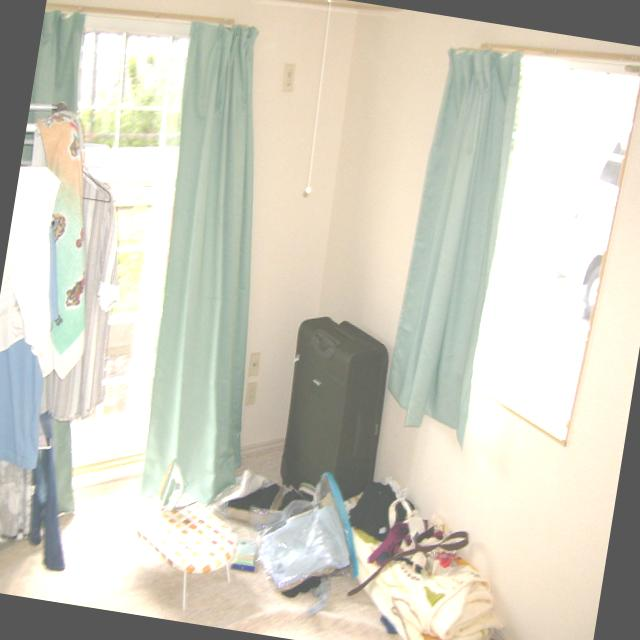Vehicle: (550, 112, 636, 333)
